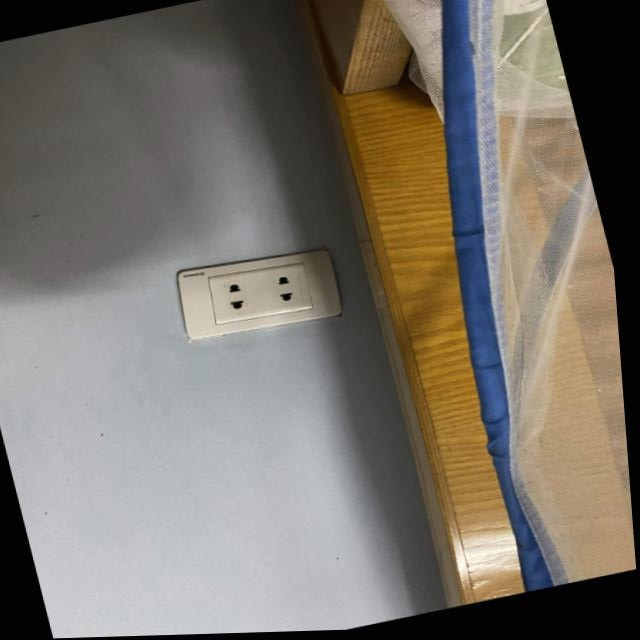outlet: (168, 240, 347, 349)
